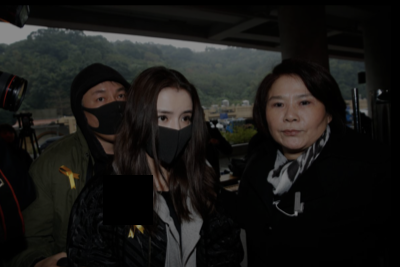with_mask: (144, 108, 196, 168), (81, 85, 130, 145)
without_mask: (263, 92, 329, 151)
